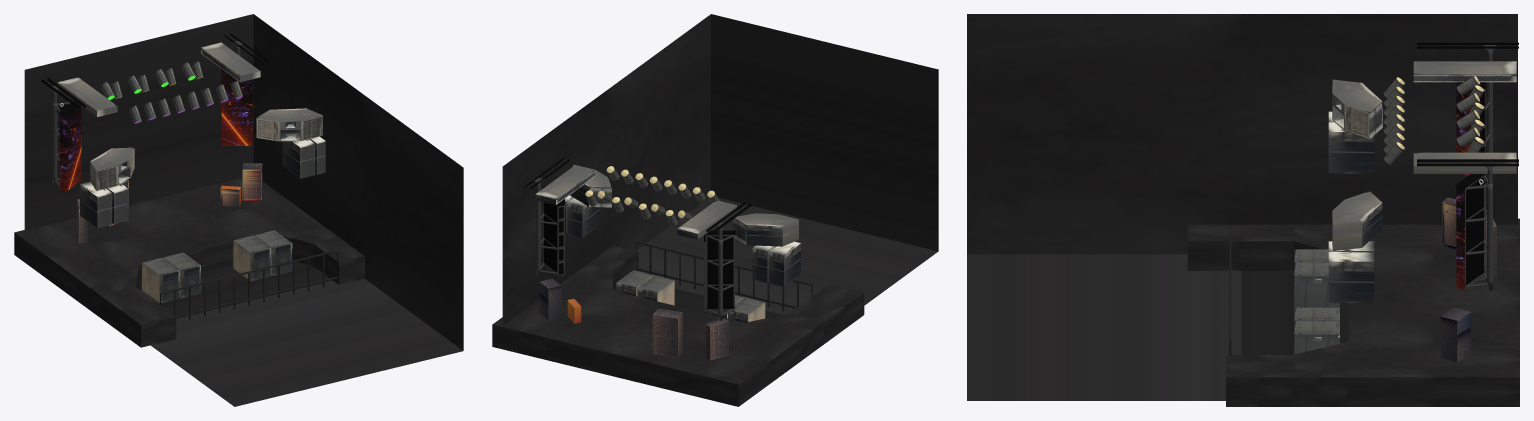
3 views of the same model, side by side, from view 1: azimuth 30°, elevation 25°; view 2: azimuth 150°, elevation 25°; view 3: azimuth 270°, elevation 25° (orthographic). The views are drawn at different scales.
Parts seen in each view (by area): view 1: Wall_4, Stage_3, MoniterAmp_54, Speaker_45, Speaker_Float_43, Aircom_44, SideLeftVision_18, Fence_53, SideLeftVision_37, LightBox.002_51, Amp_46, LightBox.003_52 (+3 smaller); view 2: Wall_4, Stage_3, Speaker_Float_43, Speaker_45, Aircom_44, MoniterAmp_54, SideLeftVision_37, Amp.003_49, Fence_53, SideLeftVision_18, LightBox.002_51, Amp.001_48 (+3 smaller); view 3: Wall_4, Stage_3, Speaker_45, Speaker_Float_43, Aircom_44, MoniterAmp_54, SideLeftVision_18, Amp_46, LightBox.002_51, LightBox.003_52, Angle60.001_5, SideLeftVision_37 (+4 smaller).
Part boxes in pixels (x1,y1,x2,y2): Wall_4: (24, 14, 463, 406); Stage_3: (14, 177, 364, 347); MoniterAmp_54: (142, 230, 292, 303); Speaker_45: (90, 108, 322, 190); Speaker_Float_43: (80, 136, 325, 228); Aircom_44: (58, 42, 260, 116); SideLeftVision_18: (221, 69, 252, 145); Fence_53: (160, 249, 338, 319); SideLeftVision_37: (59, 104, 81, 191); LightBox.002_51: (129, 81, 242, 123); Amp_46: (242, 163, 262, 201); LightBox.003_52: (100, 62, 195, 99); Wall_4: (502, 14, 938, 325); Stage_3: (492, 245, 864, 406); Speaker_Float_43: (565, 195, 800, 286); Speaker_45: (570, 164, 798, 246); Aircom_44: (535, 165, 736, 239); MoniterAmp_54: (616, 270, 765, 322); SideLeftVision_37: (704, 235, 733, 312); Amp.003_49: (652, 308, 682, 357); Fence_53: (635, 241, 812, 311); SideLeftVision_18: (544, 199, 564, 276); LightBox.002_51: (606, 166, 719, 203); Amp.001_48: (705, 318, 728, 360); Wall_4: (967, 14, 1517, 400); Stage_3: (1187, 218, 1519, 406); Speaker_45: (1332, 79, 1382, 250); Speaker_Float_43: (1328, 111, 1374, 302); Aircom_44: (1413, 61, 1516, 173); MoniterAmp_54: (1294, 249, 1339, 354); SideLeftVision_18: (1456, 174, 1485, 289); Amp_46: (1440, 307, 1470, 362); LightBox.002_51: (1383, 77, 1404, 164); LightBox.003_52: (1456, 75, 1480, 147); Angle60.001_5: (1417, 159, 1518, 166); SideLeftVision_37: (1456, 82, 1485, 176).
Bounding box in the file's own units: 9.2 × 6.5 × 13.55.
Materials: 13 (6 with a texture image).
